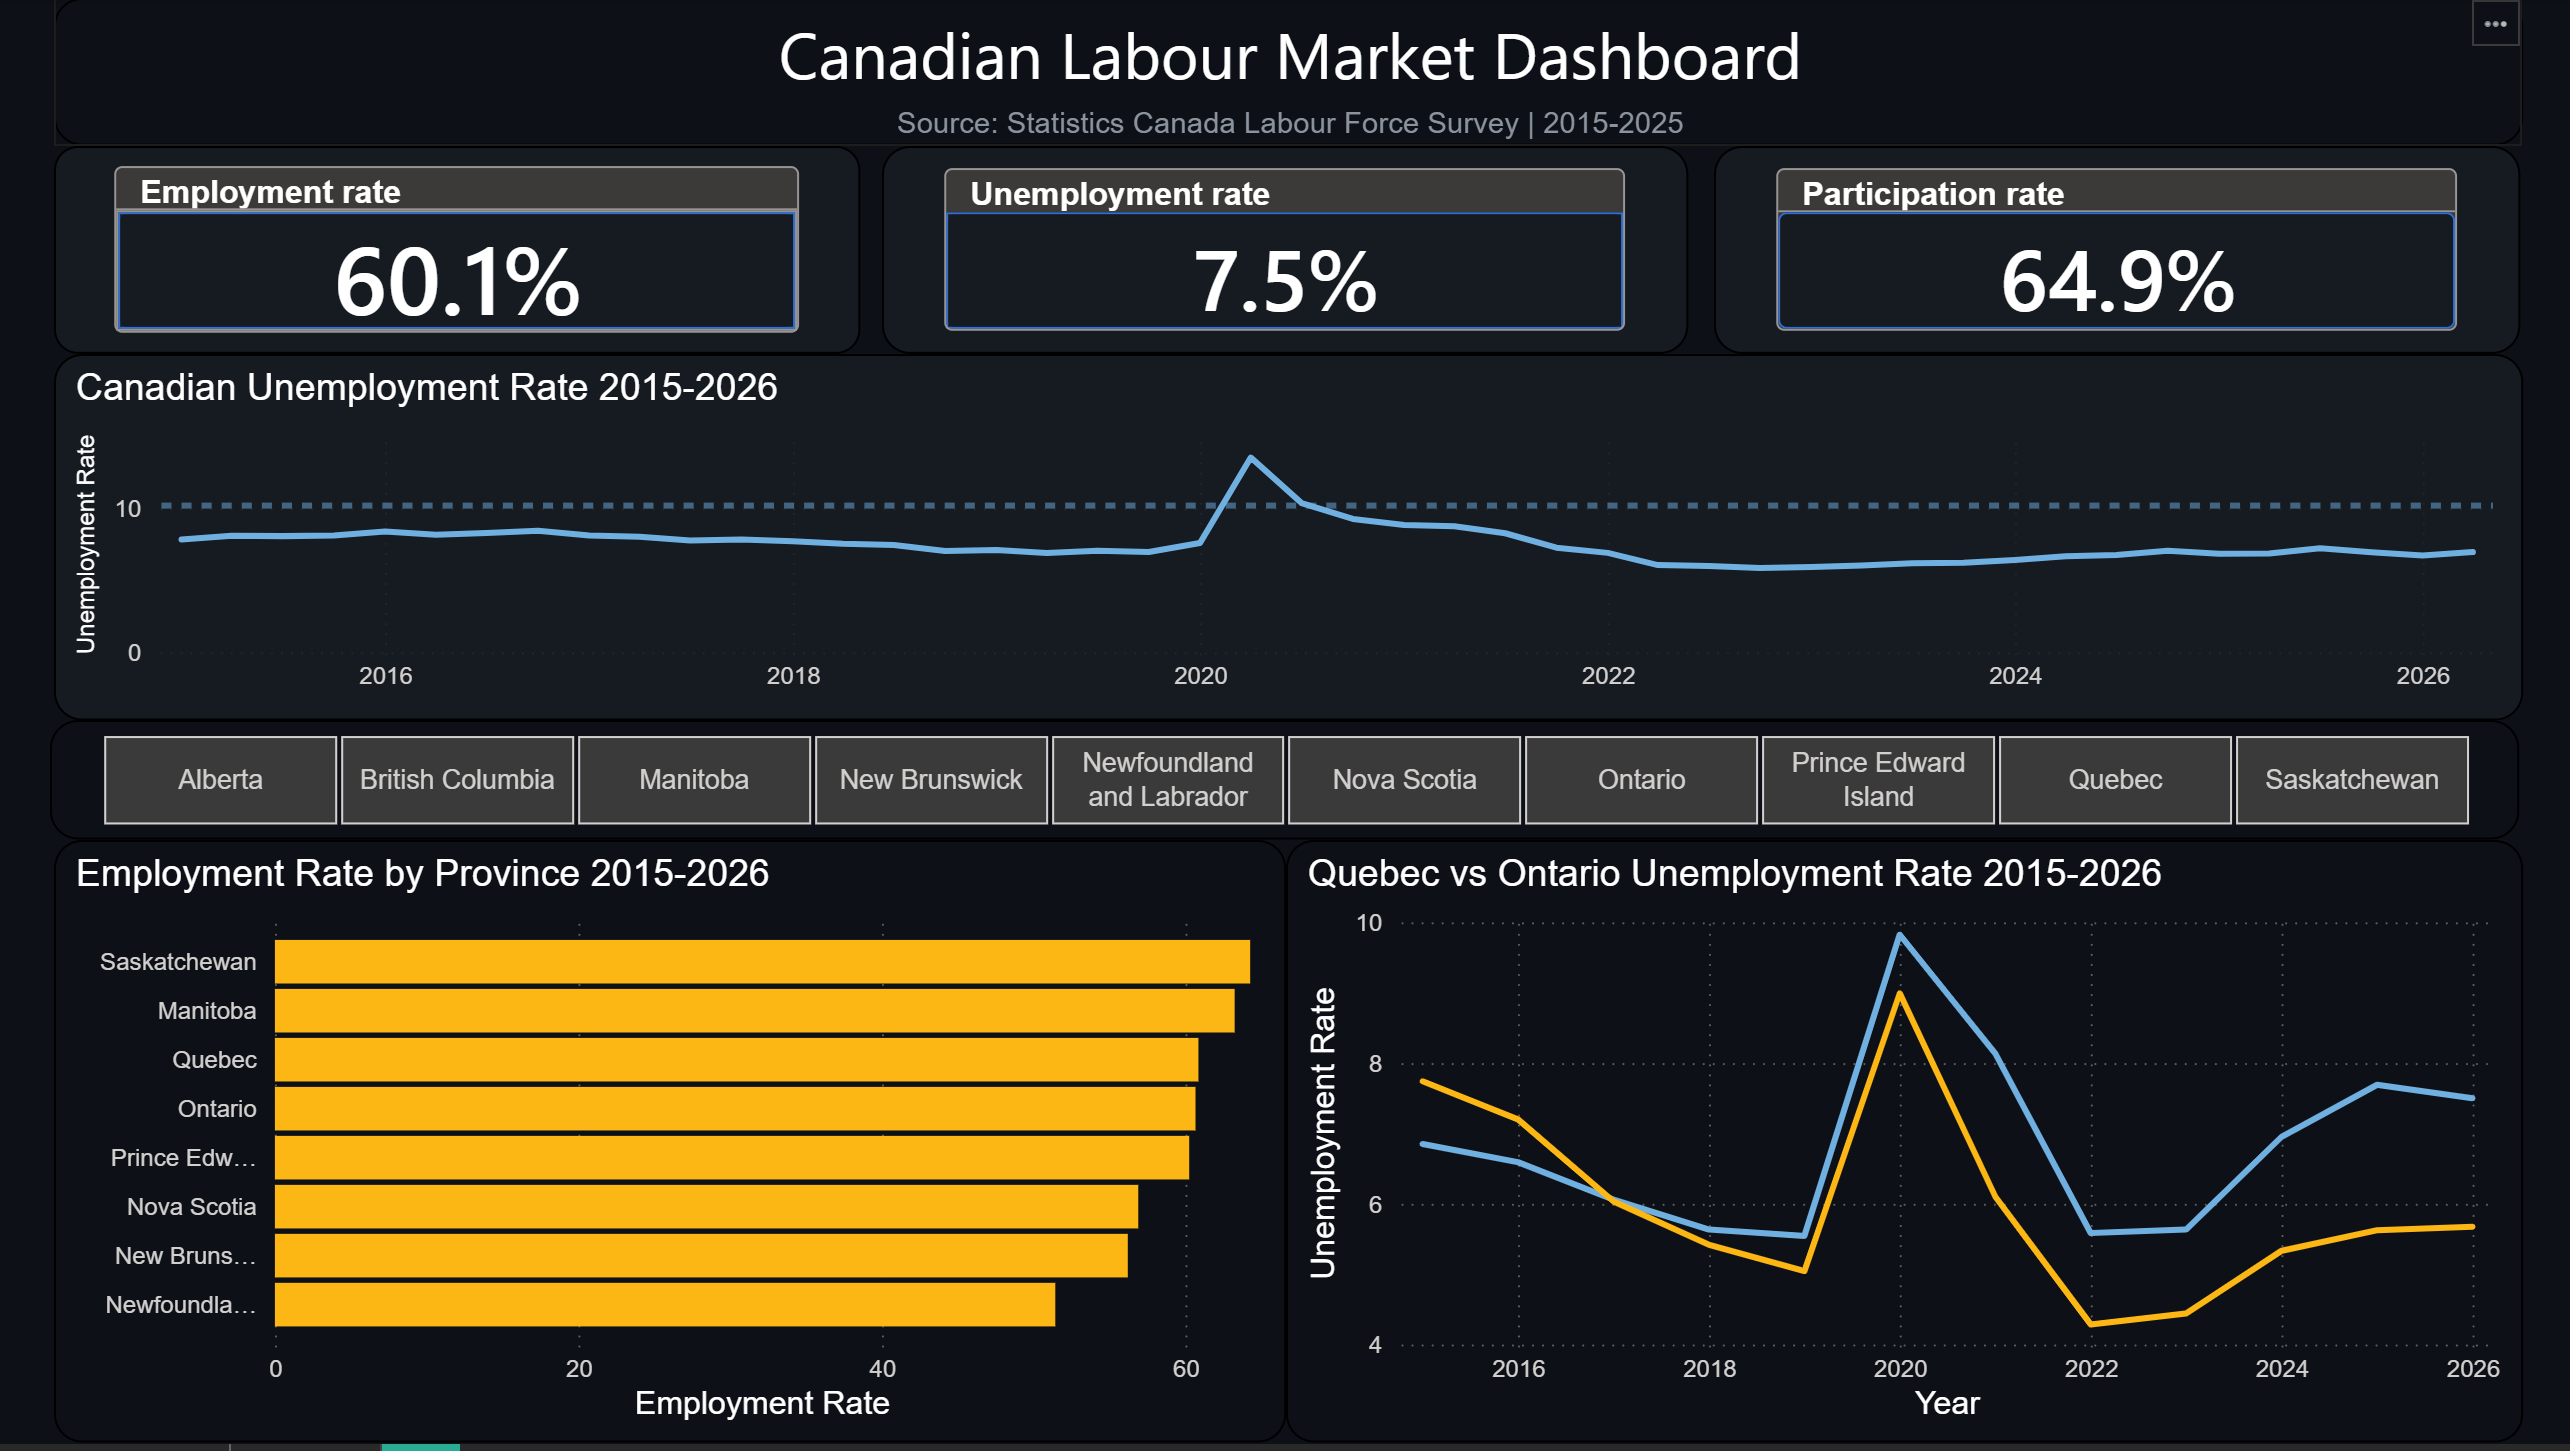

Layout of this report page (visuals, bound fields, positions):
{"tool":"powerbi","page":{"name":"Page 1","canvas":[1280,720],"ordinal":0},"visuals":[{"type":"lineChart","title":"Canadian Unemployment Rate 2015-2026","fields":{"Category":["public employment_data.proper_date.Variation.Date Hierarchy.Year","public employment_data.proper_date.Variation.Date Hierarchy.Quarter","public employment_data.proper_date.Variation.Date Hierarchy.Month","public employment_data.proper_date.Variation.Date Hierarchy.Day"],"Y":["Avg(public employment_data.value)"],"Series":["public employment_data.metric"]},"box":[26.9,168.1,1228.4,181.6],"z":0},{"type":"clusteredBarChart","title":"Employment Rate by Province 2015-2026","fields":{"Category":["public employment_data.province","public employment_data.proper_date.Variation.Date Hierarchy.Year","public employment_data.proper_date.Variation.Date Hierarchy.Quarter","public employment_data.proper_date.Variation.Date Hierarchy.Month","public employment_data.proper_date.Variation.Date Hierarchy.Day"],"Y":["Avg(public employment_data.value)"],"Series":["public employment_data.metric"]},"box":[26.9,405.7,613.1,312.7],"z":1000},{"type":"lineChart","title":"Quebec vs Ontario Unemployment Rate 2015-2026","fields":{"Category":["public employment_data.proper_date.Variation.Date Hierarchy.Year","public employment_data.proper_date.Variation.Date Hierarchy.Quarter","public employment_data.proper_date.Variation.Date Hierarchy.Month","public employment_data.proper_date.Variation.Date Hierarchy.Day"],"Y":["Avg(public employment_data.value)"],"Series":["public employment_data.province"]},"box":[640,405.7,615.3,313.8],"z":2000},{"type":"cardVisual","title":"Current Unemployment Rate","fields":{"Data":["employment_data.Unemployment Rate %"],"Rows":["public employment_data.metric"]},"box":[438.2,74,402.4,94.2],"z":3000},{"type":"cardVisual","title":"Current Participation Rate","fields":{"Rows":["public employment_data.metric"],"Data":["employment_data.Participation Rate %"]},"box":[853,74,401.3,94.2],"z":4000},{"type":"cardVisual","fields":{"Data":["employment_data.Employment Rate %"],"Rows":["public employment_data.metric"]},"box":[26.9,74,401.3,94.2],"z":5000},{"type":"textbox","title":"Canadian Labour Market Dashboard","box":[26.4,0,1229.4,73.7],"z":6000},{"type":"slicer","fields":{"Values":["public employment_data.province"]},"box":[26.9,349.7,1228.4,56],"z":7000}]}

Visuals, with their boxes in screenshot pixels (x1, y1, x2, y2), scaled from the page's 1280x720 canvas onto the 2570x1451 screenshot:
"Canadian Unemployment Rate 2015-2026" lineChart: Rect(54, 339, 2520, 705)
"Employment Rate by Province 2015-2026" clusteredBarChart: Rect(54, 818, 1285, 1448)
"Quebec vs Ontario Unemployment Rate 2015-2026" lineChart: Rect(1285, 818, 2520, 1450)
"Current Unemployment Rate" cardVisual: Rect(880, 149, 1688, 339)
"Current Participation Rate" cardVisual: Rect(1713, 149, 2518, 339)
cardVisual - employment_data.Employment Rate % x public employment_data.metric: Rect(54, 149, 860, 339)
"Canadian Labour Market Dashboard" textbox: Rect(53, 0, 2521, 149)
slicer - public employment_data.province: Rect(54, 705, 2520, 818)
